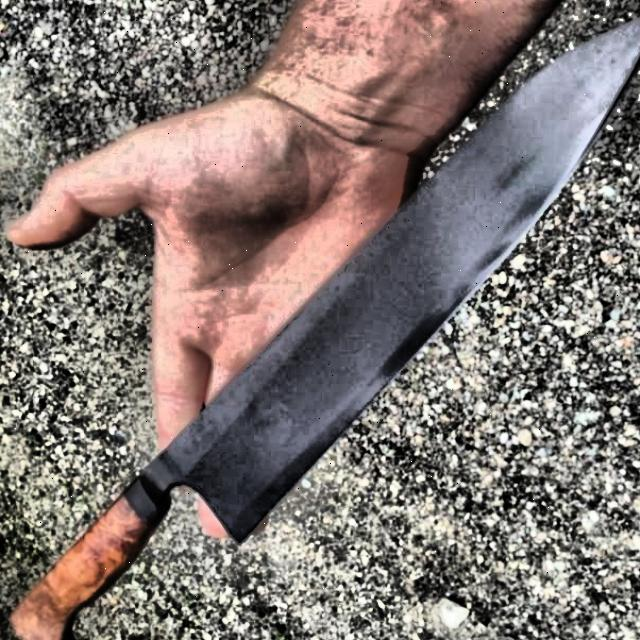knife: (11, 7, 640, 639)
